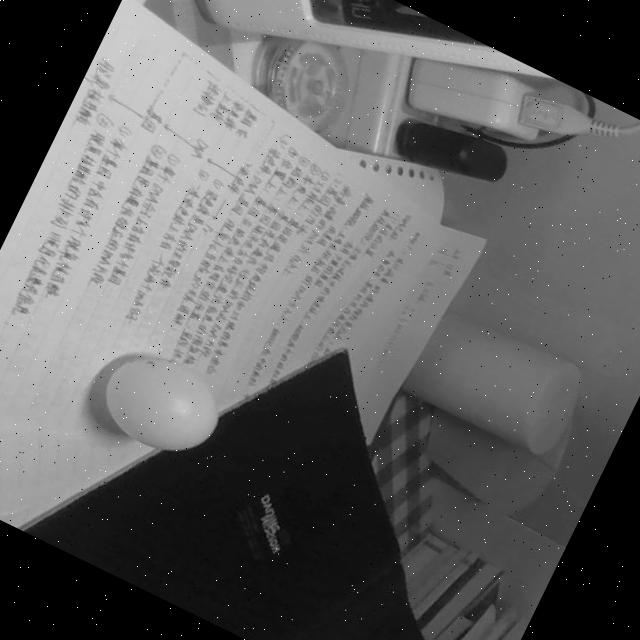ping-pong-ball: (92, 342, 226, 466)
